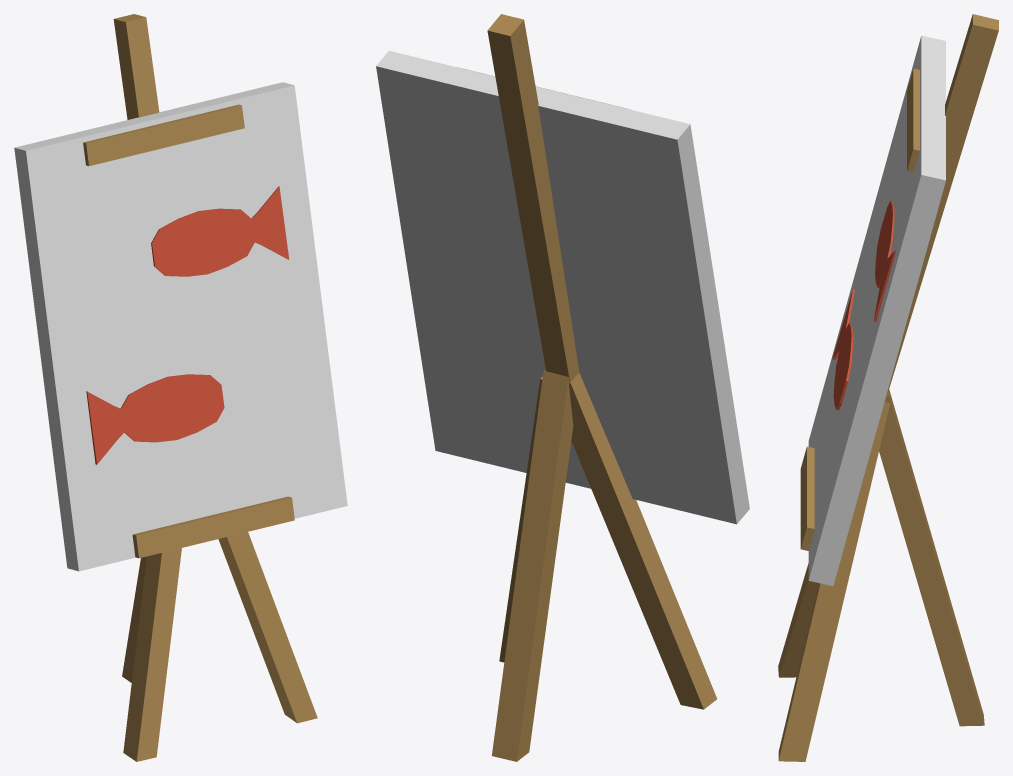
Rendered from SchilderEzel.fbx.
3 views of the same model, side by side, from view 1: azimuth 30°, elevation 25°; view 2: azimuth 150°, elevation 25°; view 3: azimuth 270°, elevation 25° (orthographic). The views are drawn at different scales.
Parts seen in each view (by area): view 1: pCube45; view 2: pCube45; view 3: pCube45.
Boxes of the visible parts, box(x1,y1,x2,y2) form: pCube45: box(14, 14, 347, 761); pCube45: box(376, 14, 749, 761); pCube45: box(778, 14, 998, 761).
Bounding box in the file's own units: 3.3 × 7.74 × 2.21.
